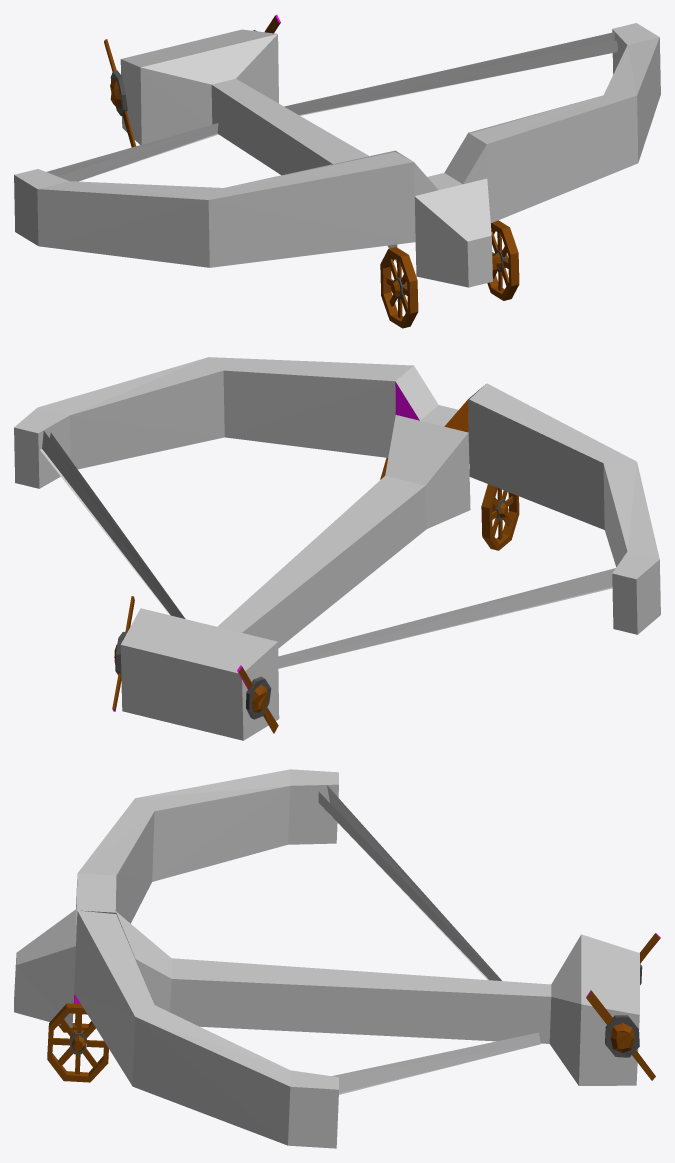
File: catabow.obj
3 renders of one model, top to bottom at view 1: azimuth 30°, elevation 25°; view 2: azimuth 150°, elevation 25°; view 3: azimuth 270°, elevation 25°, orthographic. The views are drawn at different scales.
Visible parts, largest first — view 1: catabow_back, catabow_front; view 2: catabow_back, catabow_front; view 3: catabow_back, catabow_front.
Part boxes in pixels (left/top/right/bottom): catabow_back: left=37, top=14, right=659, bottom=328; catabow_front: left=14, top=29, right=660, bottom=287; catabow_back: left=14, top=357, right=627, bottom=740; catabow_front: left=38, top=366, right=660, bottom=740; catabow_back: left=14, top=784, right=660, bottom=1148; catabow_front: left=14, top=769, right=660, bottom=1145.
Bounding box in the file's own units: 9.24 × 2.29 × 7.96.
